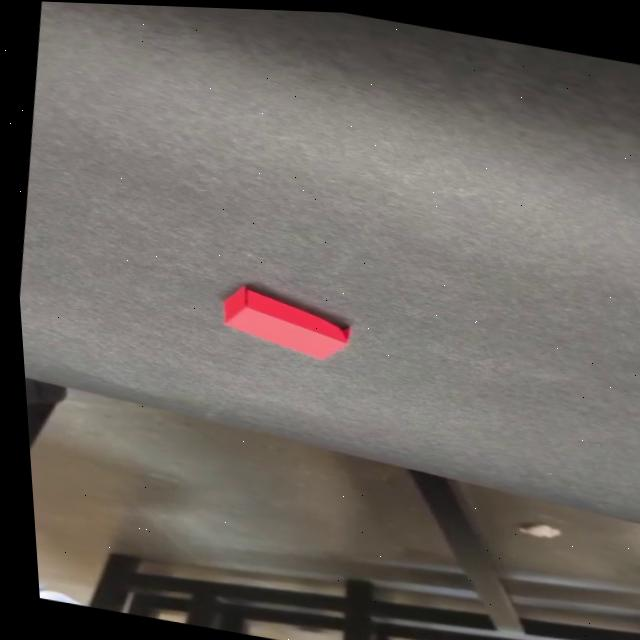red block: (214, 282, 357, 366)
